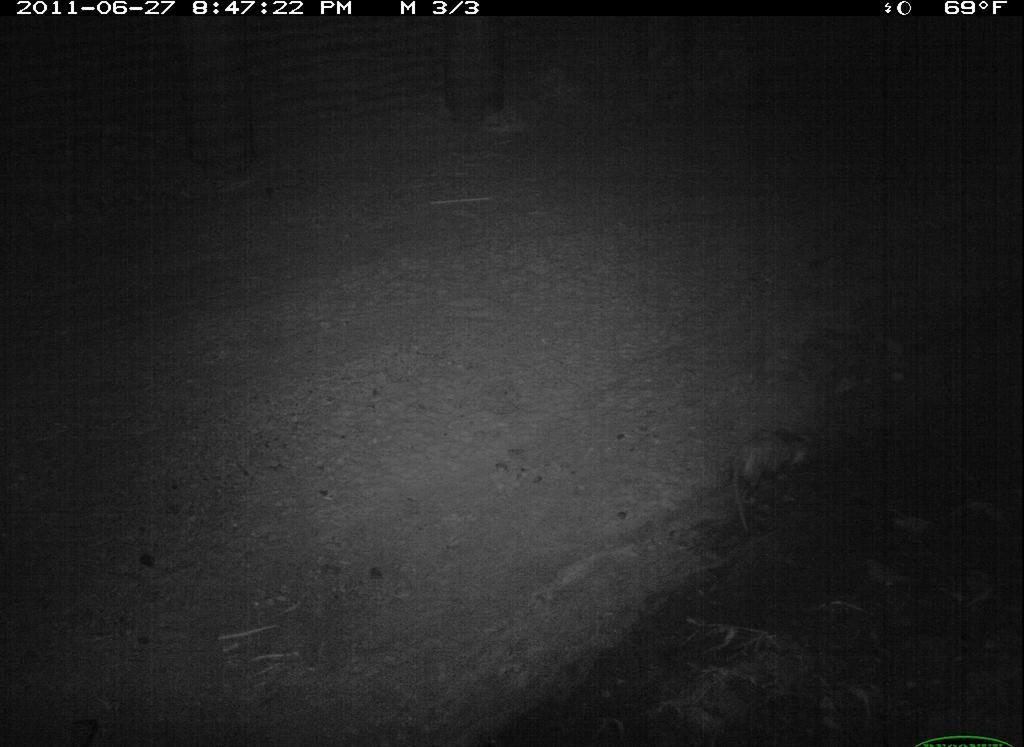opossum: (717, 432, 822, 536)
